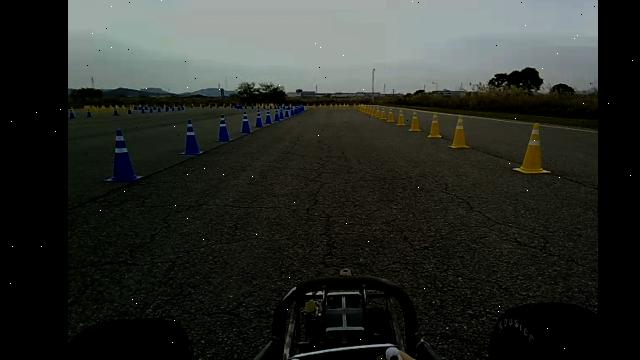blue cone: (102, 128, 144, 182), (178, 116, 206, 159), (215, 114, 234, 144), (237, 111, 254, 133)
yellow cone: (512, 122, 551, 174), (448, 114, 470, 148), (427, 112, 442, 138), (409, 111, 421, 131)
